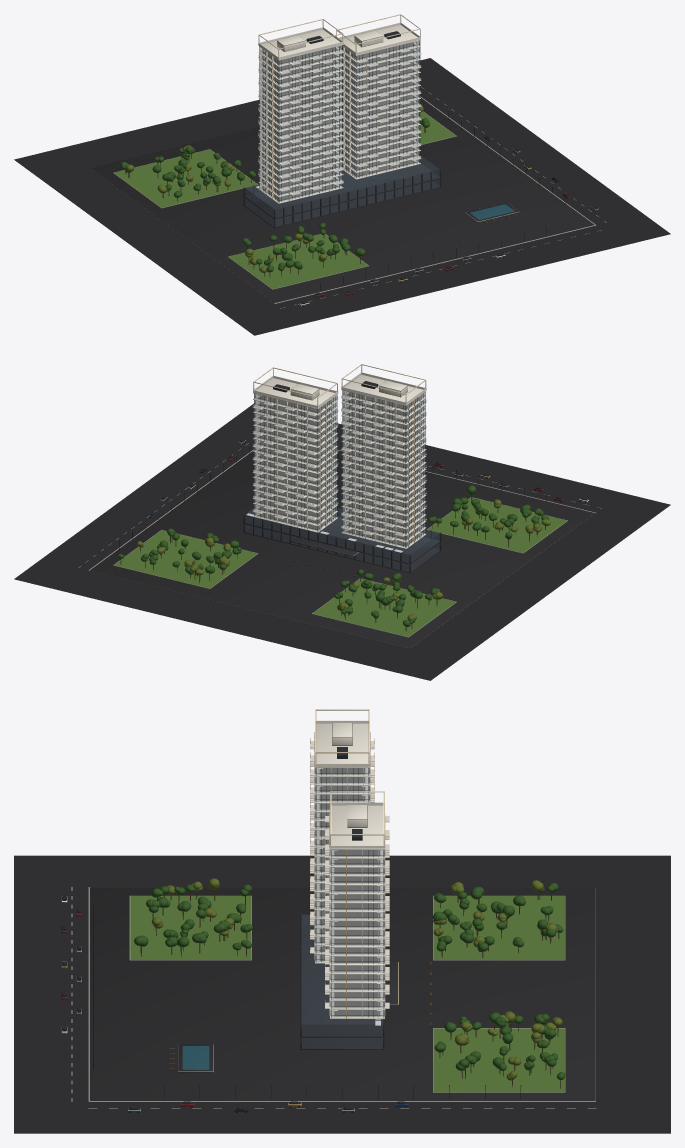
Rendered from tower-twin.glb.
3 renders of one model, top to bottom at view 1: azimuth 30°, elevation 25°; view 2: azimuth 150°, elevation 25°; view 3: azimuth 270°, elevation 25°, orthographic. The views are drawn at different scales.
Parts seen in each view (by area): view 1: site, podium, roof, floor-19, floor-4, floor-11, floor-13, floor-15, floor-17, floor-2, floor-6, floor-7 (+13 smaller); view 2: site, podium, roof, floor-19, floor-11, floor-13, floor-9, floor-17, floor-3, floor-4, floor-8, floor-15 (+13 smaller); view 3: site, roof, podium, floor-19, floor-16, floor-18, floor-6, floor-14, floor-4, floor-12, floor-8, floor-10 (+11 smaller).
Part boxes in pixels (<box>): site: <box>14,58,670,335</box>; podium: <box>243,155,441,228</box>; roof: <box>258,14,420,60</box>; floor-19: <box>258,40,420,87</box>; floor-4: <box>258,138,421,184</box>; floor-11: <box>258,94,420,139</box>; floor-13: <box>258,81,420,126</box>; floor-15: <box>258,68,420,113</box>; floor-17: <box>258,55,420,100</box>; floor-2: <box>258,151,421,197</box>; floor-6: <box>258,125,421,171</box>; floor-7: <box>258,120,420,165</box>; site: <box>14,403,670,680</box>; podium: <box>243,508,441,573</box>; roof: <box>253,364,426,408</box>; floor-19: <box>253,393,426,432</box>; floor-11: <box>253,447,426,484</box>; floor-13: <box>253,434,426,471</box>; floor-9: <box>253,460,426,497</box>; floor-17: <box>253,408,426,445</box>; floor-3: <box>253,499,426,536</box>; floor-4: <box>252,491,426,529</box>; floor-8: <box>252,465,426,503</box>; floor-15: <box>253,421,426,458</box>; site: <box>14,855,670,1133</box>; roof: <box>315,709,384,849</box>; podium: <box>300,914,398,1049</box>; floor-19: <box>310,765,389,858</box>; floor-16: <box>310,799,389,885</box>; floor-18: <box>310,781,389,867</box>; floor-6: <box>310,888,389,974</box>; floor-14: <box>310,816,389,903</box>; floor-4: <box>310,905,389,992</box>; floor-12: <box>310,834,389,921</box>; floor-8: <box>310,870,389,956</box>; floor-10: <box>310,852,389,938</box>.
Size of the model in its own units: 221 by 87.76 by 221.
